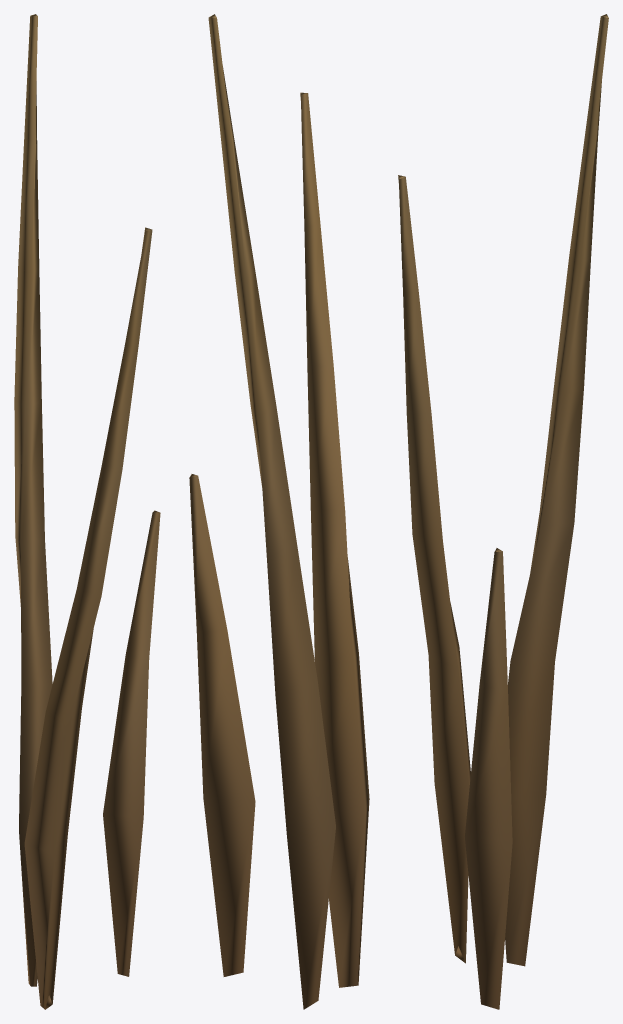
File: trees-grasses-dry-grass-blades_v5.glb
3 renders of one model, left to right at view 1: azimuth 30°, elevation 25°; view 2: azimuth 150°, elevation 25°; view 3: azimuth 270°, elevation 25°, orthographic. The views are drawn at different scales.
Visible parts, largest first — view 1: Dry Grass Blades_v5; view 2: Dry Grass Blades_v5; view 3: Dry Grass Blades_v5.
Part boxes in pixels (x1,y1,x2,y2): Dry Grass Blades_v5: (14, 14, 160, 1009); Dry Grass Blades_v5: (189, 14, 369, 1009); Dry Grass Blades_v5: (398, 14, 608, 1009).
Bounding box in the file's own units: 0.0994 × 0.6 × 0.1178.
